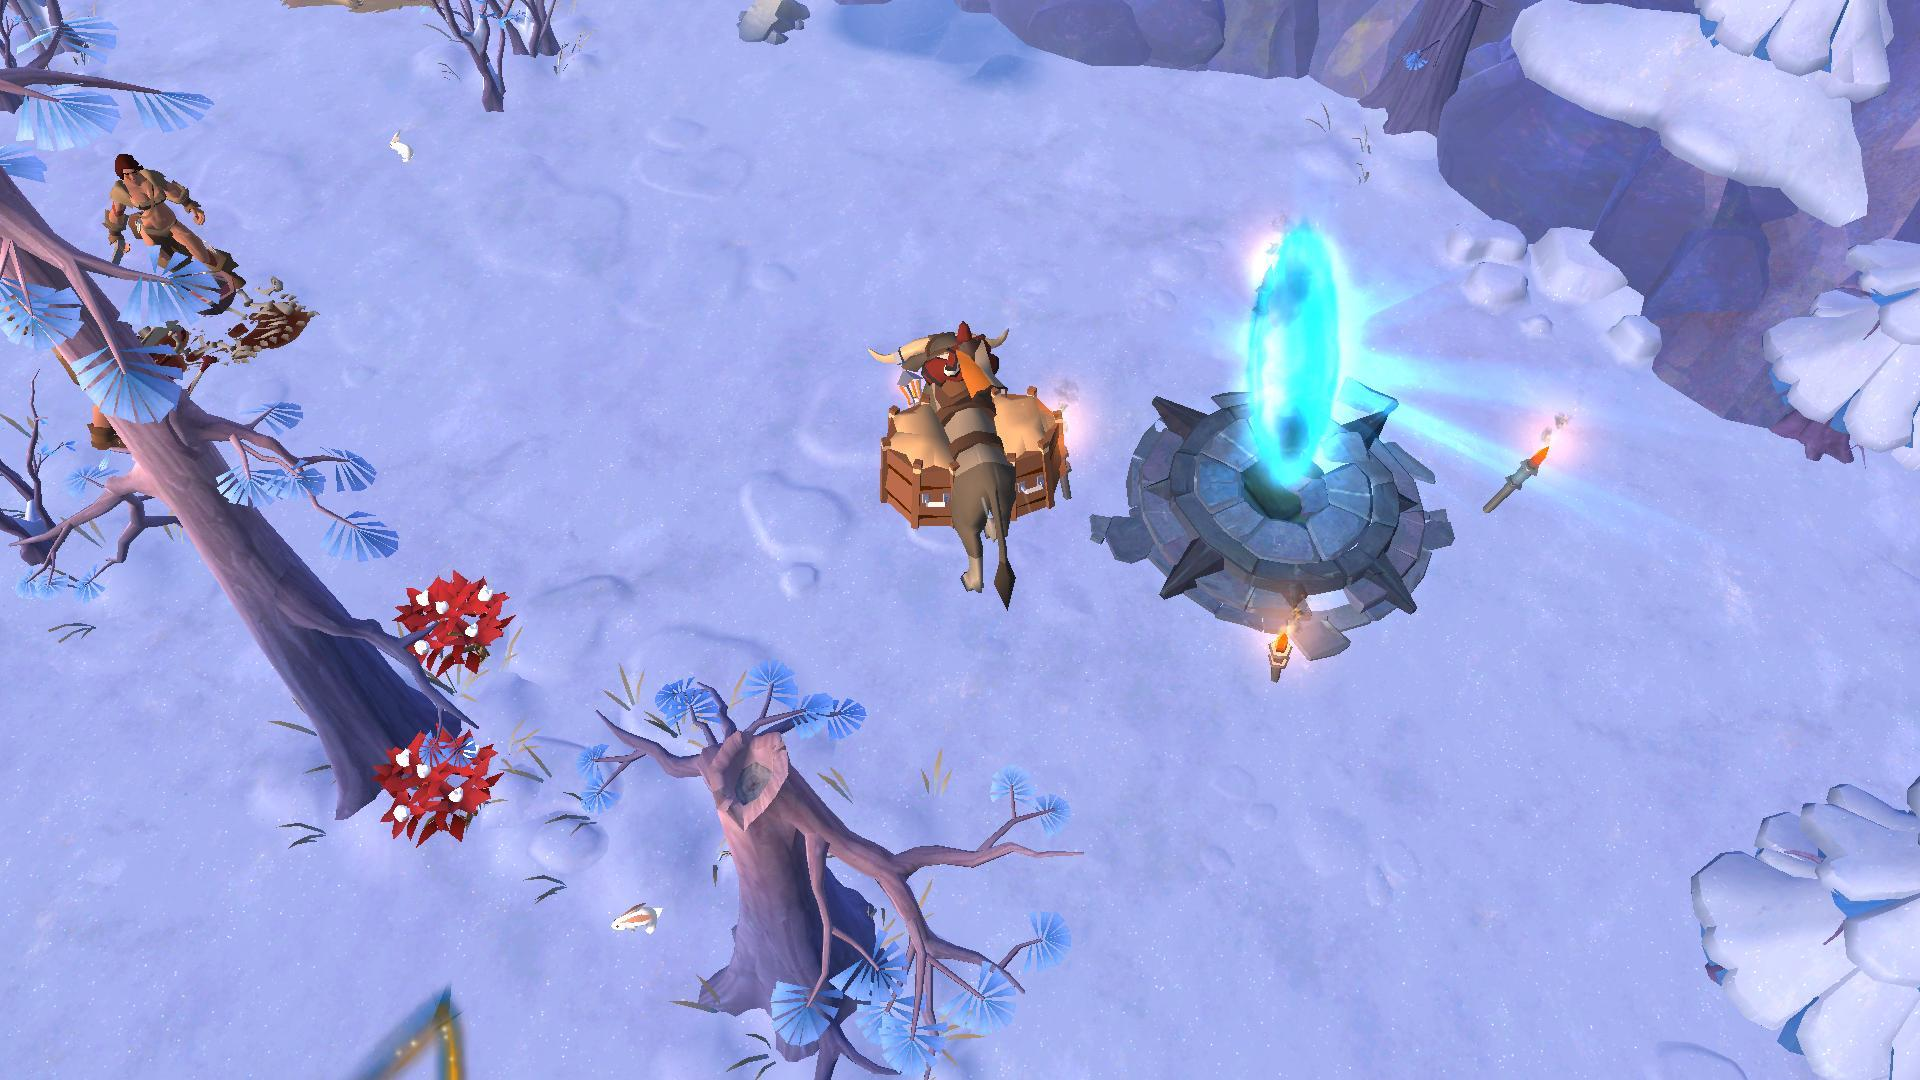enemy_factionKeeper: (92, 144, 225, 282)
fiber_t5: (378, 727, 506, 840), (398, 567, 522, 675)
